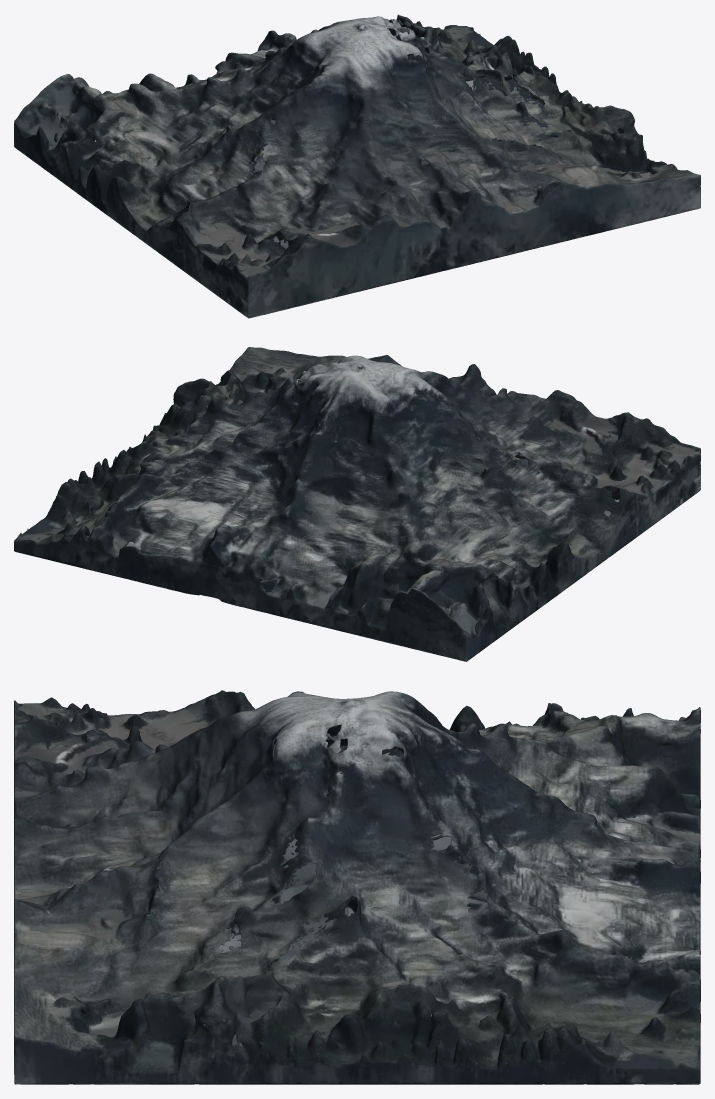
Rendered from Rainier.glb.
3 views of the same model, one above another, from view 1: azimuth 30°, elevation 25°; view 2: azimuth 150°, elevation 25°; view 3: azimuth 270°, elevation 25° (orthographic). The views are drawn at different scales.
Visible parts, largest first — view 1: world; view 2: world; view 3: world.
Boxes of the visible parts, x1,y1,x2,y2 form: world: (14,14,700,318); world: (14,347,700,661); world: (14,690,700,1084).
Size of the model in its own units: 1 by 0.3264 by 0.8997.
Materials: 1 (1 with a texture image).
